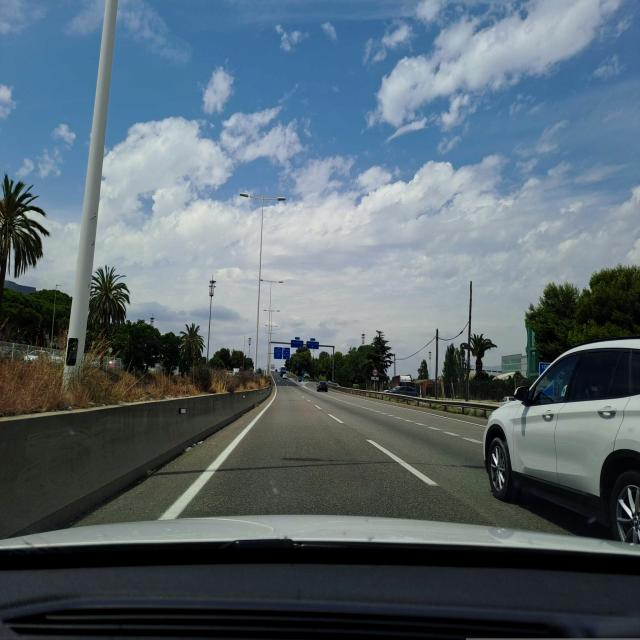car: (482, 334, 640, 546), (317, 380, 329, 392)
